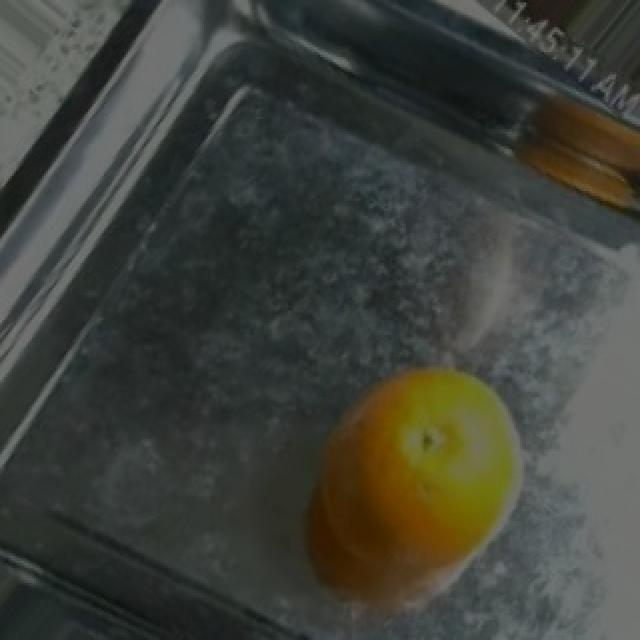Fruit: (284, 338, 548, 638)
